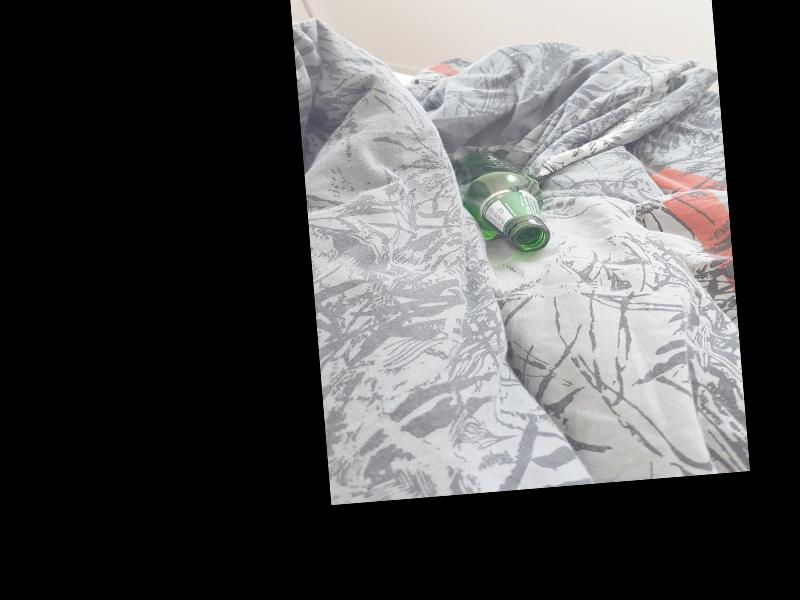Beer: (459, 148, 548, 257)
